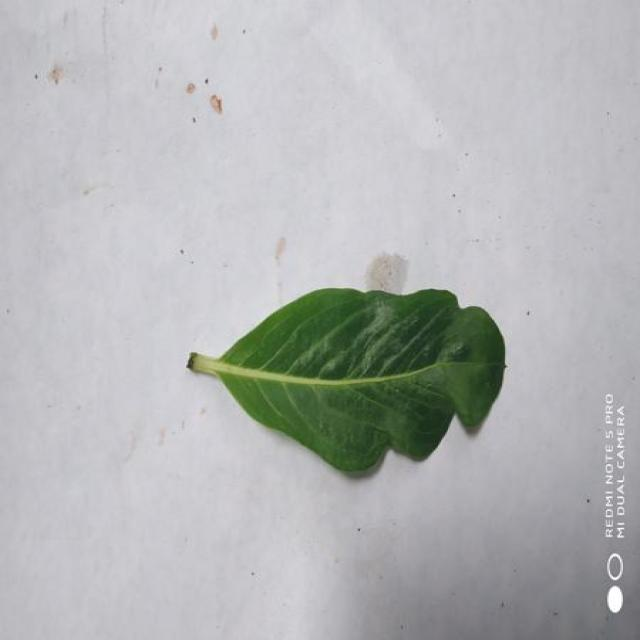catharanthus: (188, 289, 505, 471)
defectedcatharanthus: (256, 406, 455, 472)
